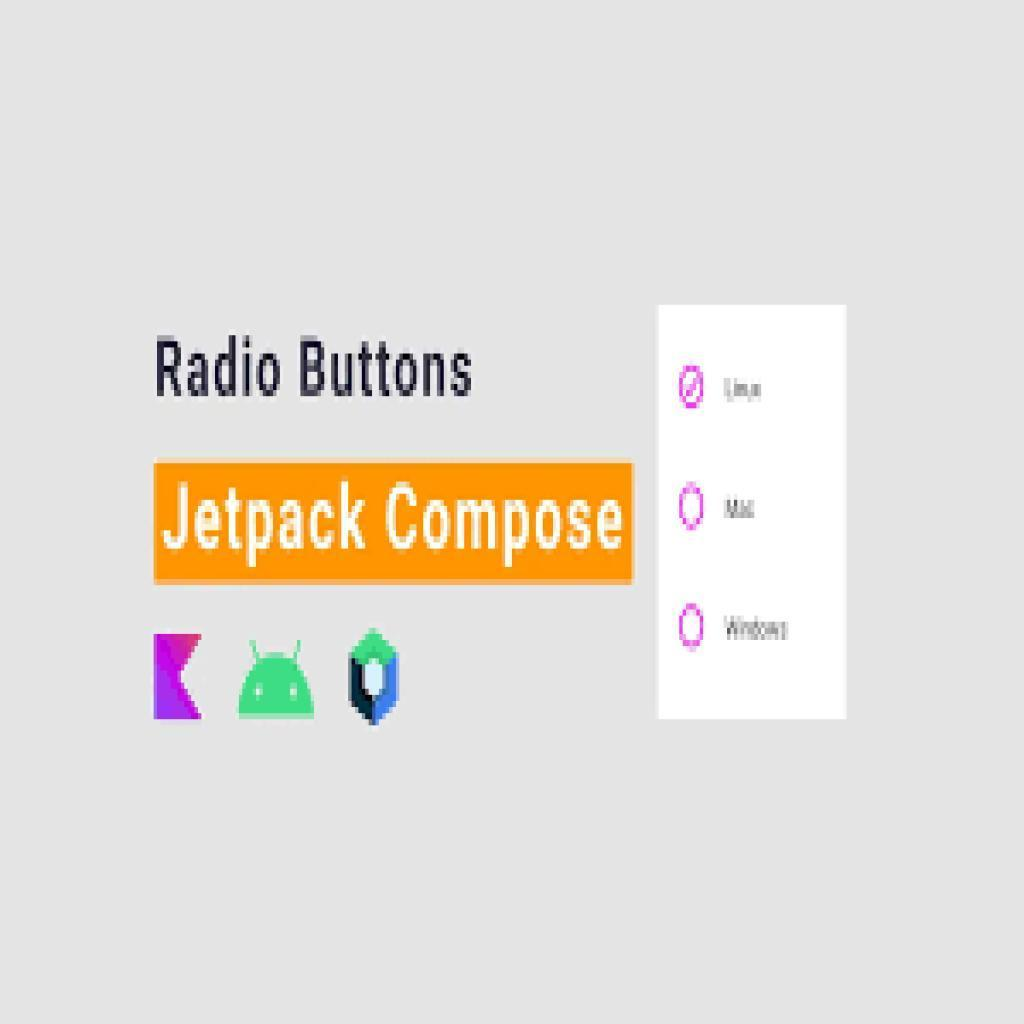label: (725, 613, 793, 646), (724, 379, 766, 405), (724, 494, 760, 523)
radio: (679, 602, 707, 655), (678, 482, 706, 533), (678, 364, 706, 412)
